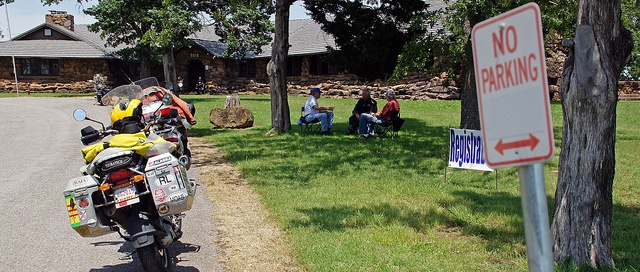non-vehicle: (71, 84, 182, 271), (129, 76, 192, 170), (94, 83, 110, 105), (194, 84, 207, 94), (176, 76, 183, 92)
